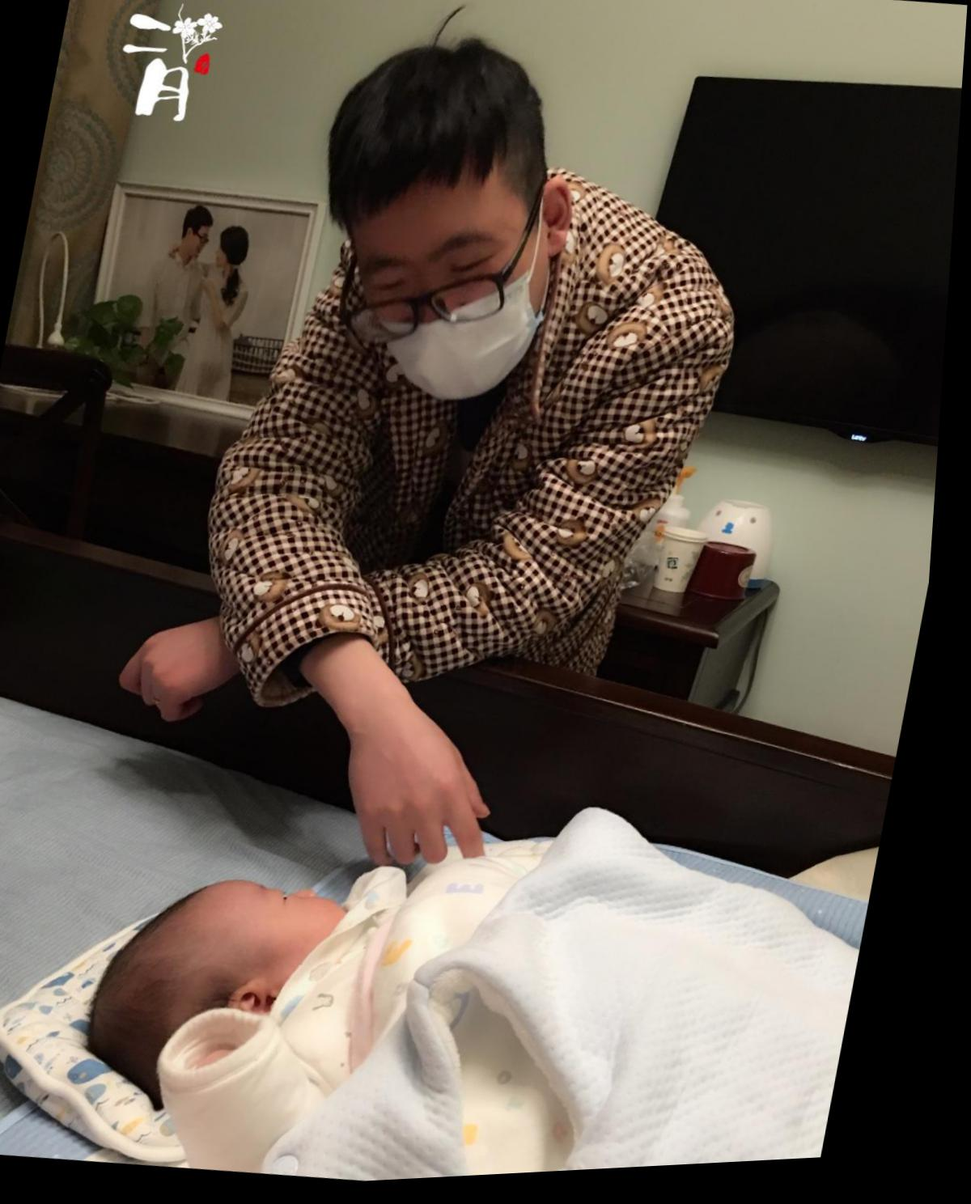NONE: (211, 870, 400, 1028), (184, 224, 215, 262), (217, 245, 238, 271)
WRONG: (334, 202, 556, 422)
